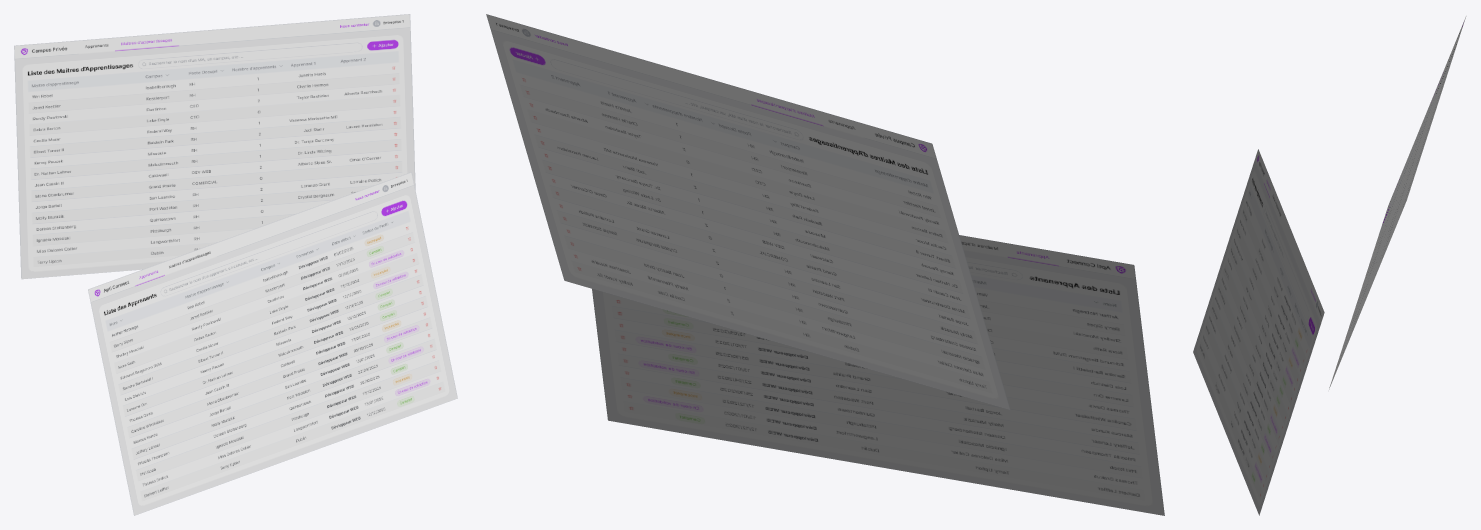
3 views of the same model, side by side, from view 1: azimuth 30°, elevation 25°; view 2: azimuth 150°, elevation 25°; view 3: azimuth 270°, elevation 25° (orthographic). The views are drawn at different scales.
Visible parts, largest first — view 1: Plane.001, Plane; view 2: Plane.001, Plane; view 3: Plane, Plane.001.
Boxes of the visible parts, box(x1,y1,x2,y2) form: Plane.001: box(14, 14, 415, 279); Plane: box(88, 172, 457, 515); Plane.001: box(486, 14, 1010, 410); Plane: box(592, 235, 1164, 515); Plane: box(1193, 149, 1324, 515); Plane.001: box(1329, 16, 1466, 389).
Size of the model in its own units: 7.01 by 6.21 by 4.42.
Materials: 2 (2 with a texture image).
